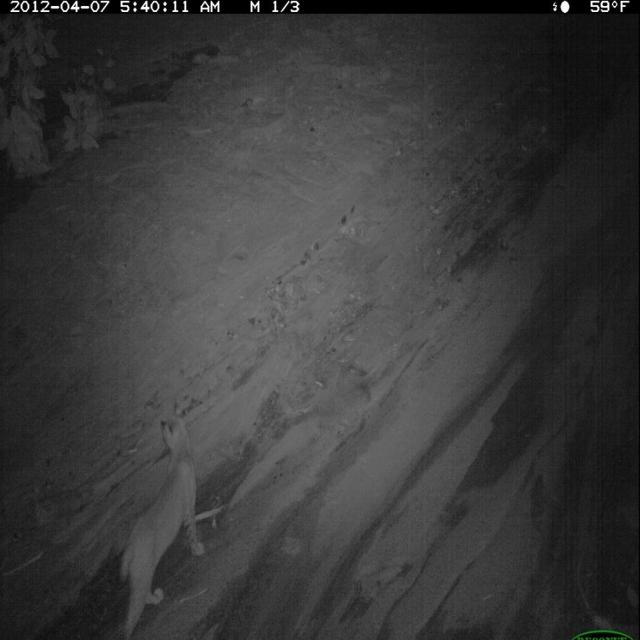bobcat: (115, 399, 207, 640)
